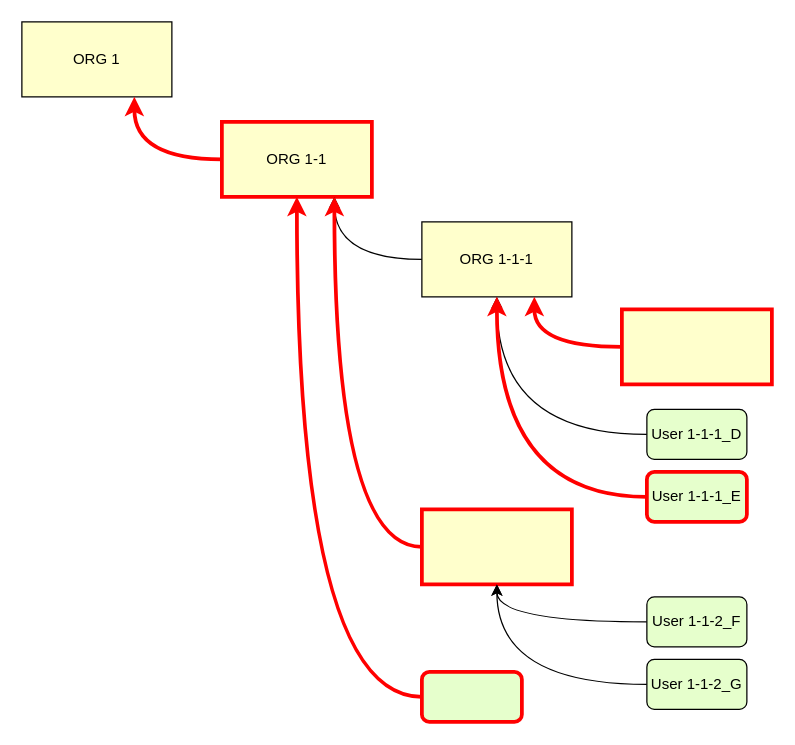
Image size: 795x745. Some labels were removed from this diagram. Here are the shapes that lost their labels. From the top down, the box of each, then its label:
(619, 307, 773, 386): ORG 1-1-1-1
(419, 507, 573, 586): ORG 1-1-2
(419, 669, 523, 723): User 1-1_B
